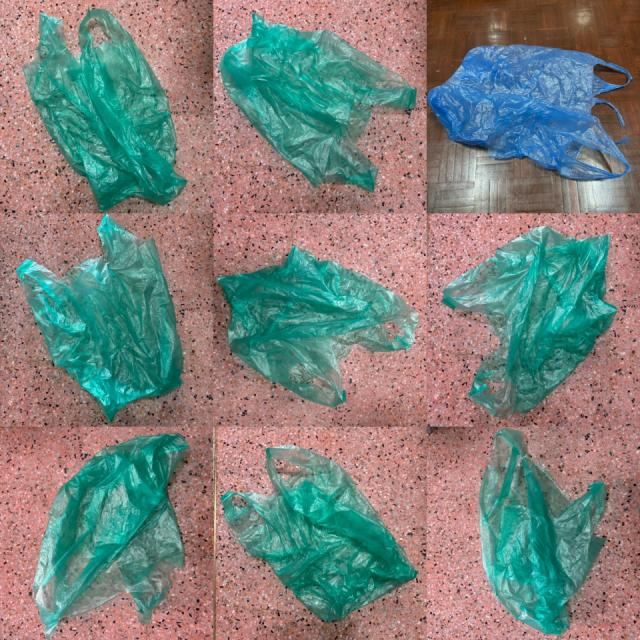Single-layer Plastic: (219, 12, 416, 191), (16, 214, 182, 421), (221, 446, 416, 621), (442, 226, 616, 417), (24, 10, 186, 209), (218, 246, 418, 406), (34, 434, 188, 638), (428, 45, 631, 179), (479, 429, 606, 634)
